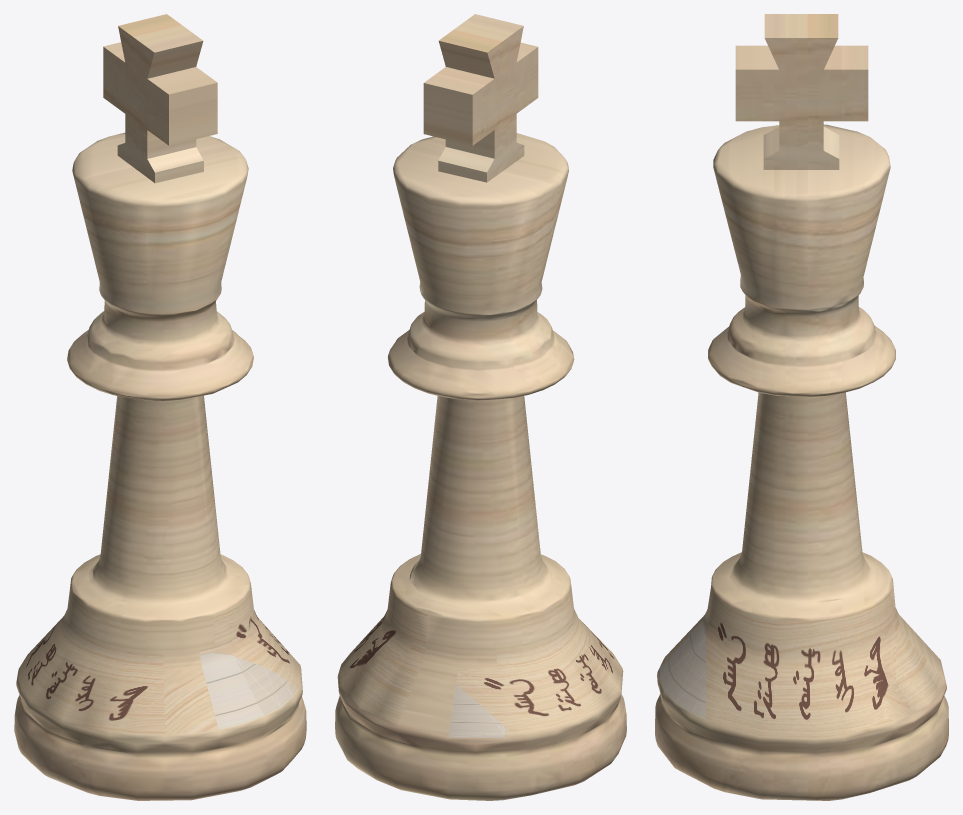
File: Rey.fbx
The picture shows the model from 3 angles, left to right: view 1: azimuth 30°, elevation 25°; view 2: azimuth 150°, elevation 25°; view 3: azimuth 270°, elevation 25°; orthographic projection.
Visible parts, largest first — view 1: Vert.008; view 2: Vert.008; view 3: Vert.008.
Part boxes in pixels (x1=…): Vert.008: x1=14, y1=14, x2=306, y2=800; Vert.008: x1=335, y1=14, x2=626, y2=800; Vert.008: x1=655, y1=14, x2=948, y2=800.
Bounding box in the file's own units: 39.47 × 107 × 39.47.
2 materials, 2 textured.
